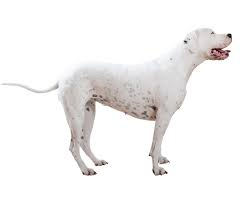dog: (7, 24, 238, 179)
